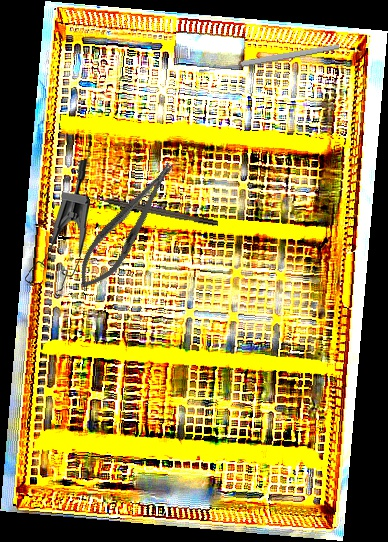Hook Surgical: (84, 192, 219, 228)
Needle Holder: (67, 153, 187, 298)
Speculum: (21, 159, 93, 298)
Surgical Spoon: (198, 42, 340, 76)
